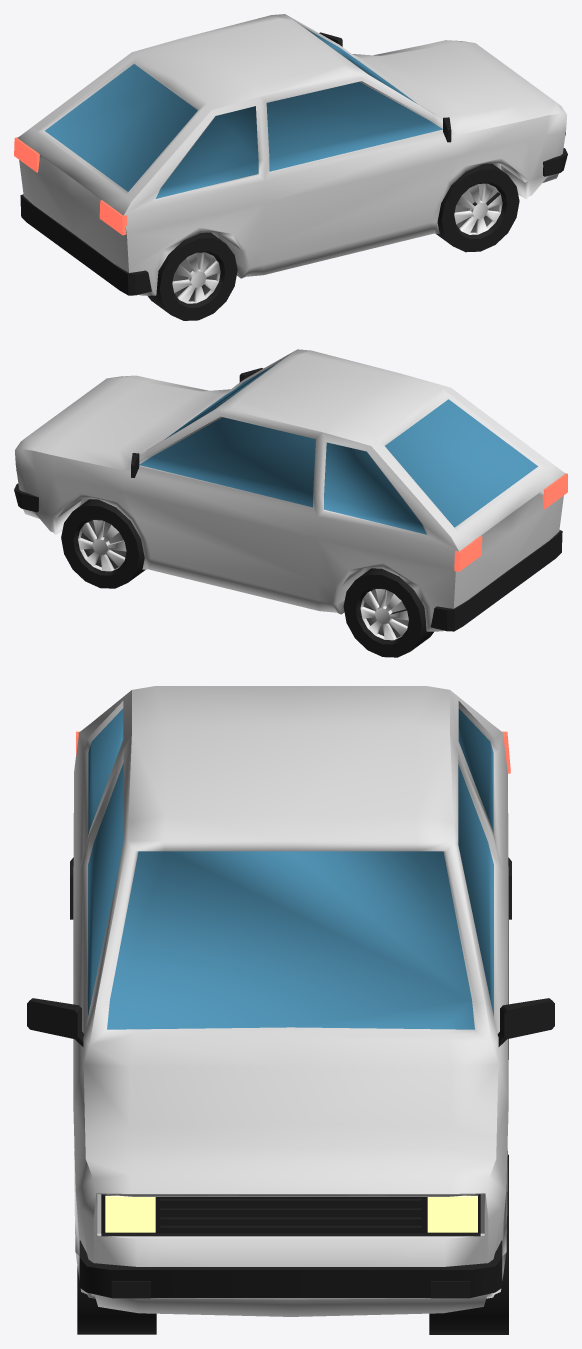
Rendered from quadradao.glb.
3 views of the same model, one above another, from view 1: azimuth 30°, elevation 25°; view 2: azimuth 150°, elevation 25°; view 3: azimuth 270°, elevation 25° (orthographic). The views are drawn at different scales.
Parts seen in each view (by area): view 1: Body; view 2: Body; view 3: Body.
Boxes of the visible parts, box(x1,y1,x2,y2) form: Body: box(14, 14, 567, 320); Body: box(14, 349, 567, 657); Body: box(27, 686, 554, 1334).
Size of the model in its own units: 3.81 by 1.6 by 1.92.
Materials: 4 (4 with a texture image).
